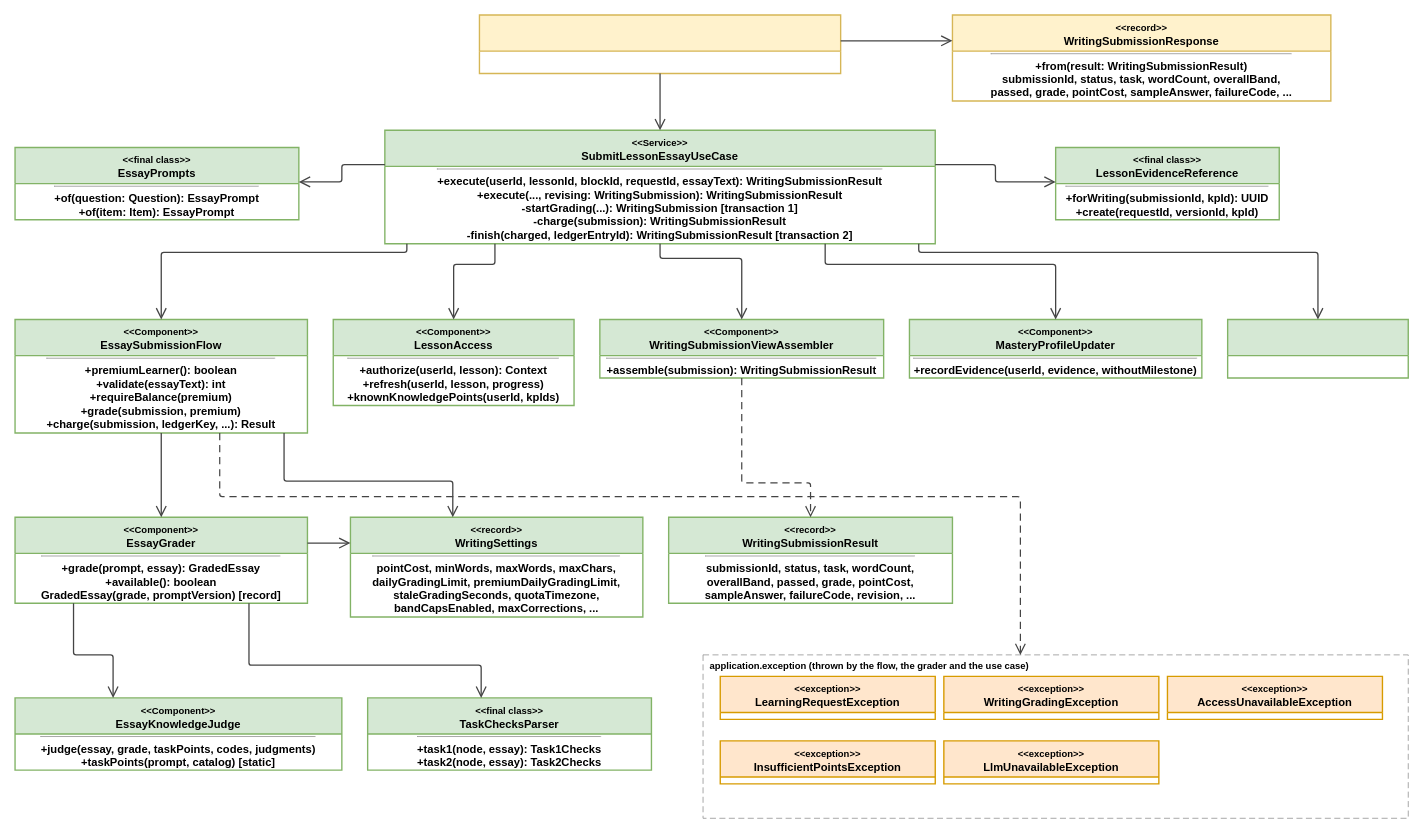
Image size: 1424x834. Some labels were removed from this diagram. Each missing label, with the centre of its shape:
"<<Component>> WritingCriterionReviews +create(userId, lessonId, failed)" goes at pixel 1318 348.
"<<RestController>> WritingController +submit(lessonId, blockId, request)" goes at pixel 659 44.
